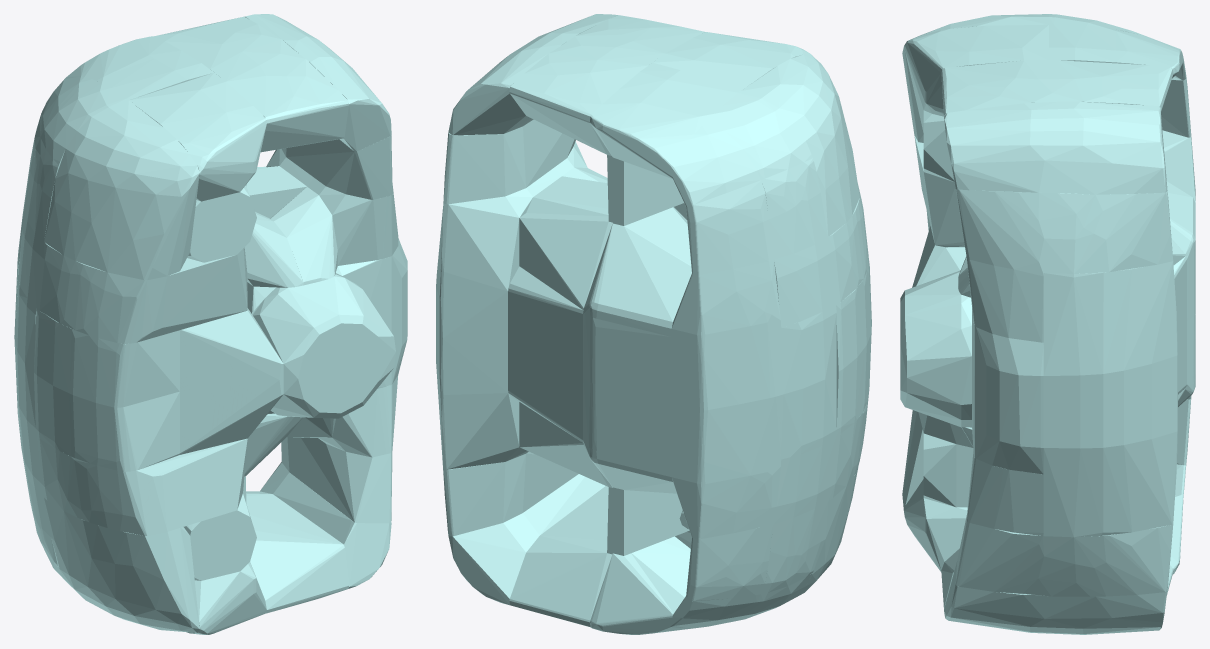
The model's file is BODY_mesh.dae.
The picture shows the model from 3 angles, left to right: view 1: azimuth 30°, elevation 25°; view 2: azimuth 150°, elevation 25°; view 3: azimuth 270°, elevation 25°; orthographic projection. The views are drawn at different scales.
Parts seen in each view (by area): view 1: BODY; view 2: BODY; view 3: BODY.
Boxes of the visible parts, box(x1,y1,x2,y2) form: BODY: box(14, 14, 407, 634); BODY: box(436, 14, 871, 634); BODY: box(900, 14, 1195, 634).
Size of the model in its own units: 0.1895 by 0.2575 by 0.131.
